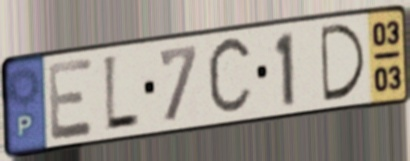1: (272, 28, 297, 110)
7: (157, 41, 201, 126)
C: (205, 31, 255, 122)
D: (317, 21, 369, 105)
E: (45, 55, 96, 144)
L: (101, 52, 142, 137)
